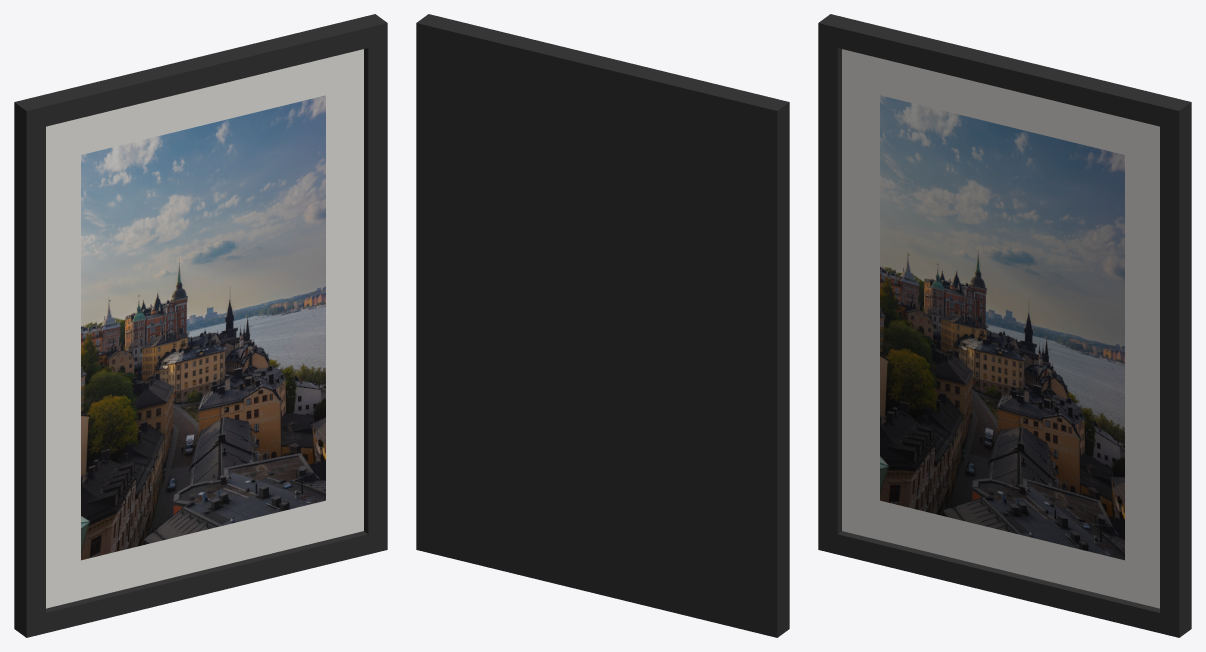
File: over-soder-40.gltf
3 views of the same model, side by side, from view 1: azimuth 30°, elevation 25°; view 2: azimuth 150°, elevation 25°; view 3: azimuth 330°, elevation 25° (orthographic).
Visible parts, largest first — view 1: tavla; view 2: tavla; view 3: tavla.
Part boxes in pixels (x1,y1,x2,y2): tavla: [14, 14, 387, 637]; tavla: [416, 14, 789, 637]; tavla: [818, 14, 1191, 637].
Size of the model in its own units: 0.3729 by 0.52 by 0.022.
3 materials, 1 textured.
